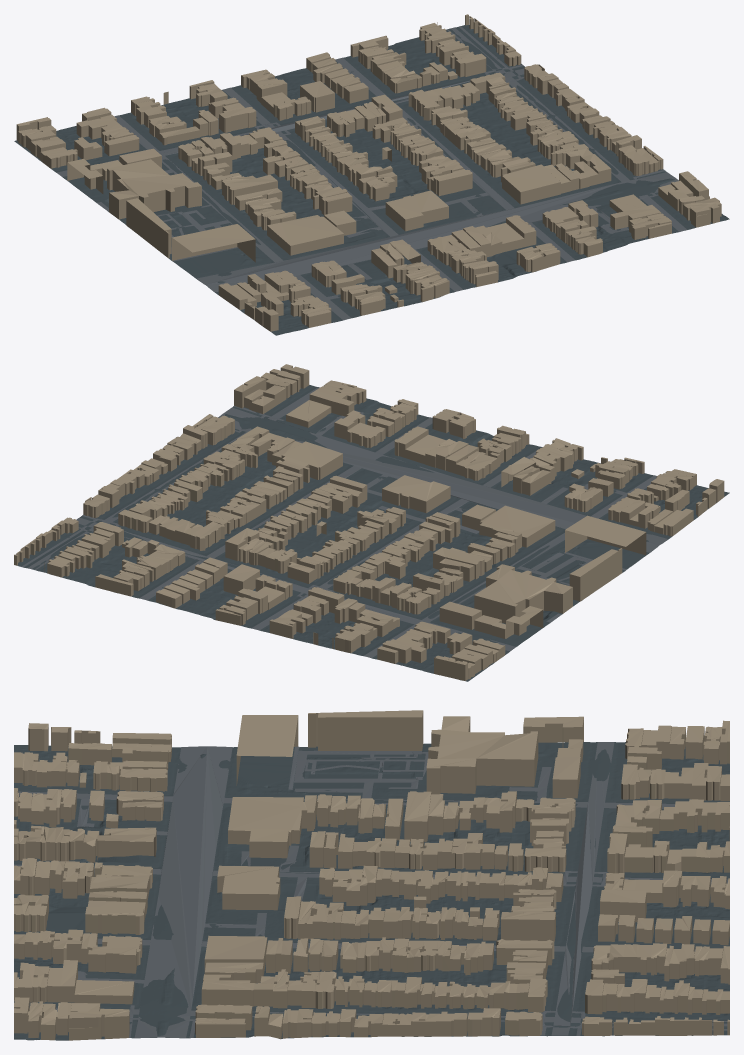
Rendered from epsg26910-1425-10889.lod0.glb.
3 views of the same model, one above another, from view 1: azimuth 30°, elevation 25°; view 2: azimuth 150°, elevation 25°; view 3: azimuth 270°, elevation 25° (orthographic). The views are drawn at different scales.
Parts seen in each view (by area): view 1: epsg26910-1425-10889-lod0; view 2: epsg26910-1425-10889-lod0; view 3: epsg26910-1425-10889-lod0.
Boxes of the visible parts, box(x1,y1,x2,y2) form: epsg26910-1425-10889-lod0: box(14, 14, 729, 335); epsg26910-1425-10889-lod0: box(14, 364, 729, 681); epsg26910-1425-10889-lod0: box(14, 710, 729, 1040).
Bounding box in the file's own units: 384 × 23.58 × 384.
